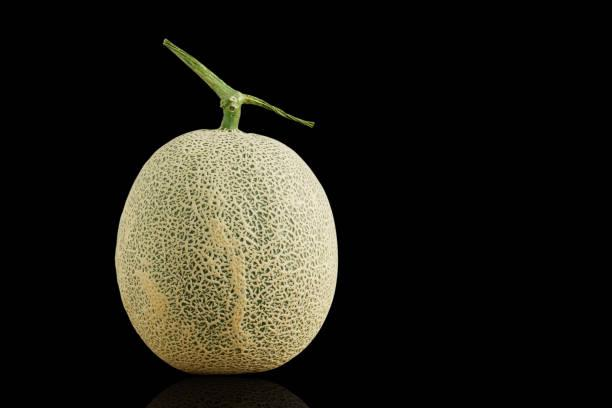Melon Ripe: (116, 39, 337, 373)
